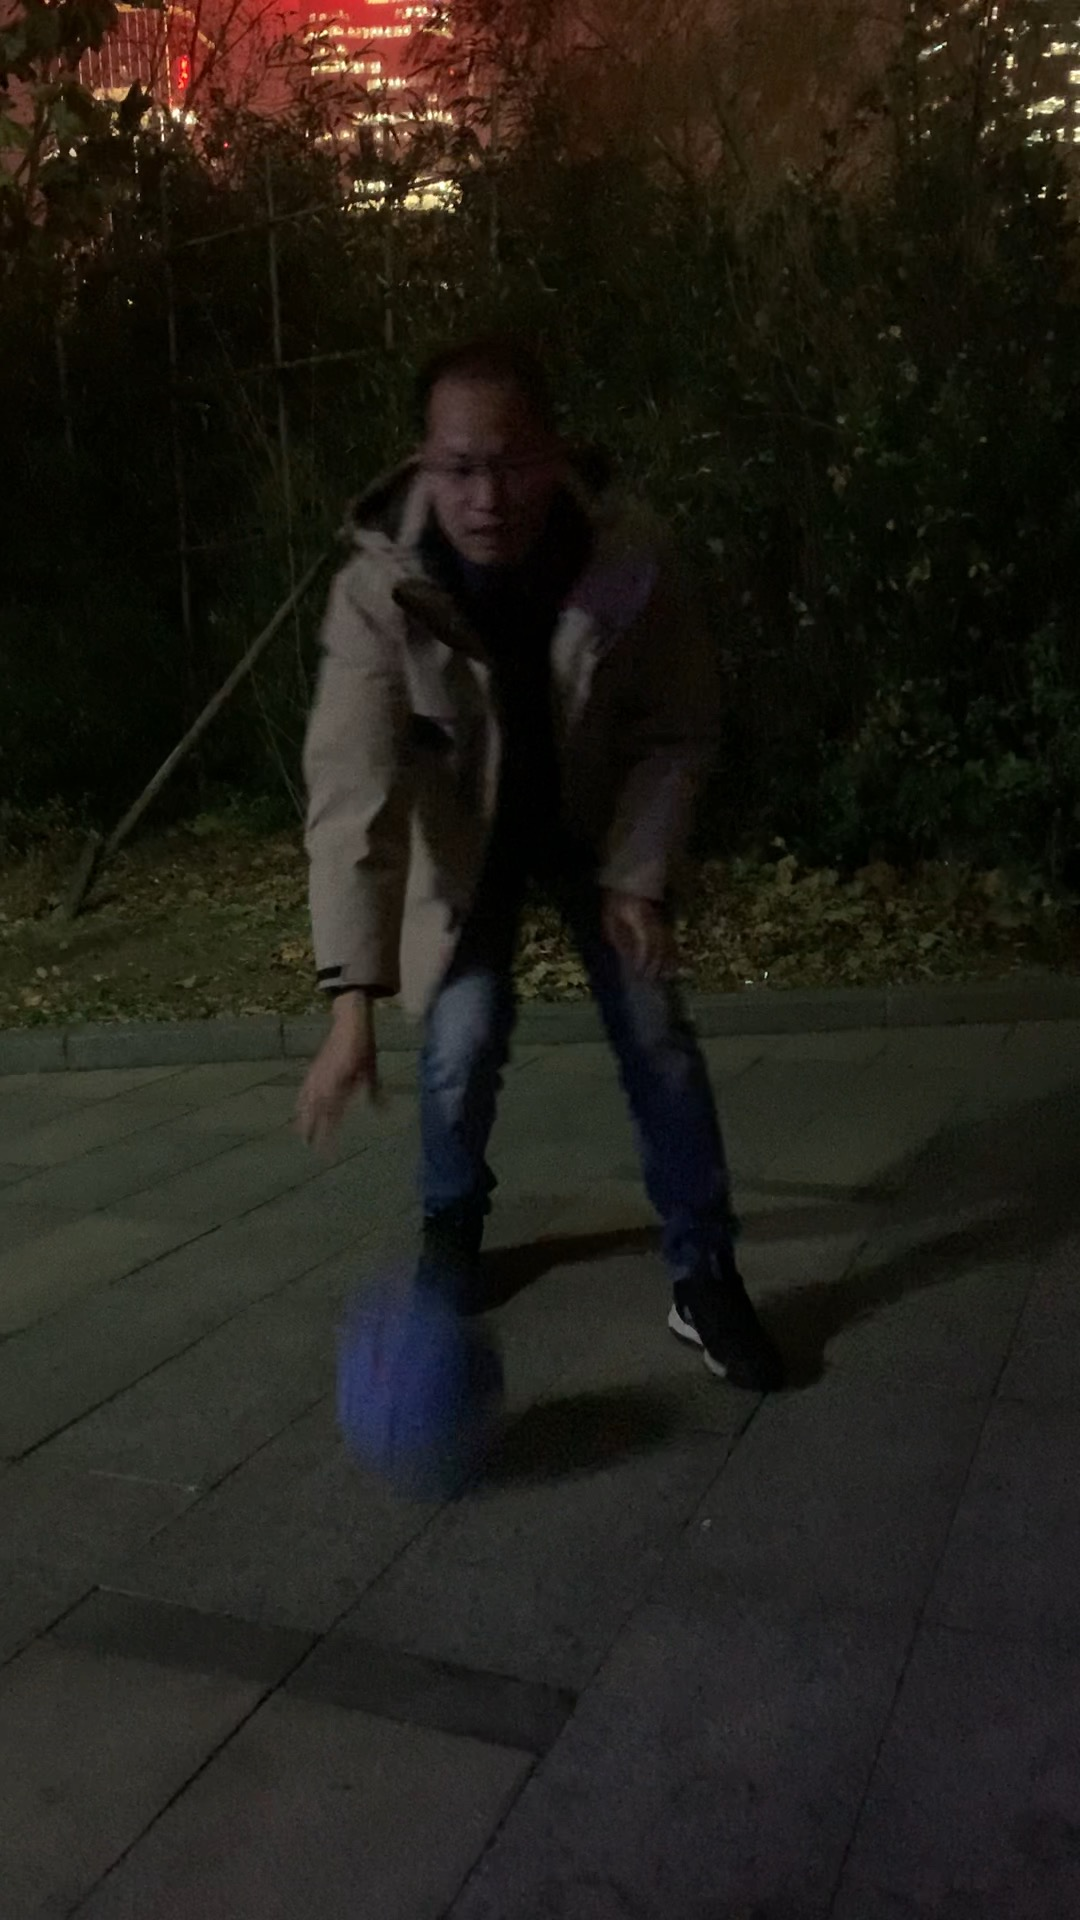ball: (334, 1294, 518, 1476)
